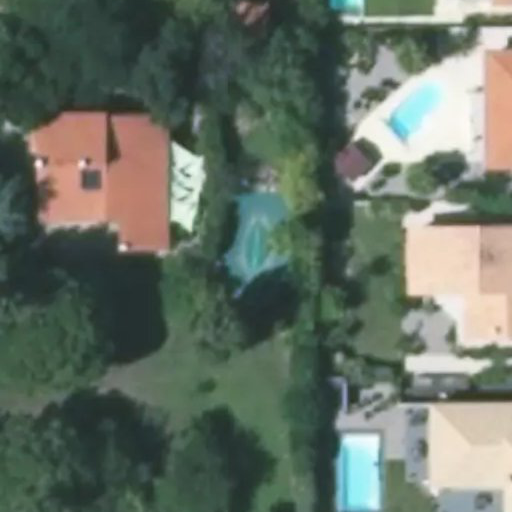pool: (224, 184, 287, 299)
